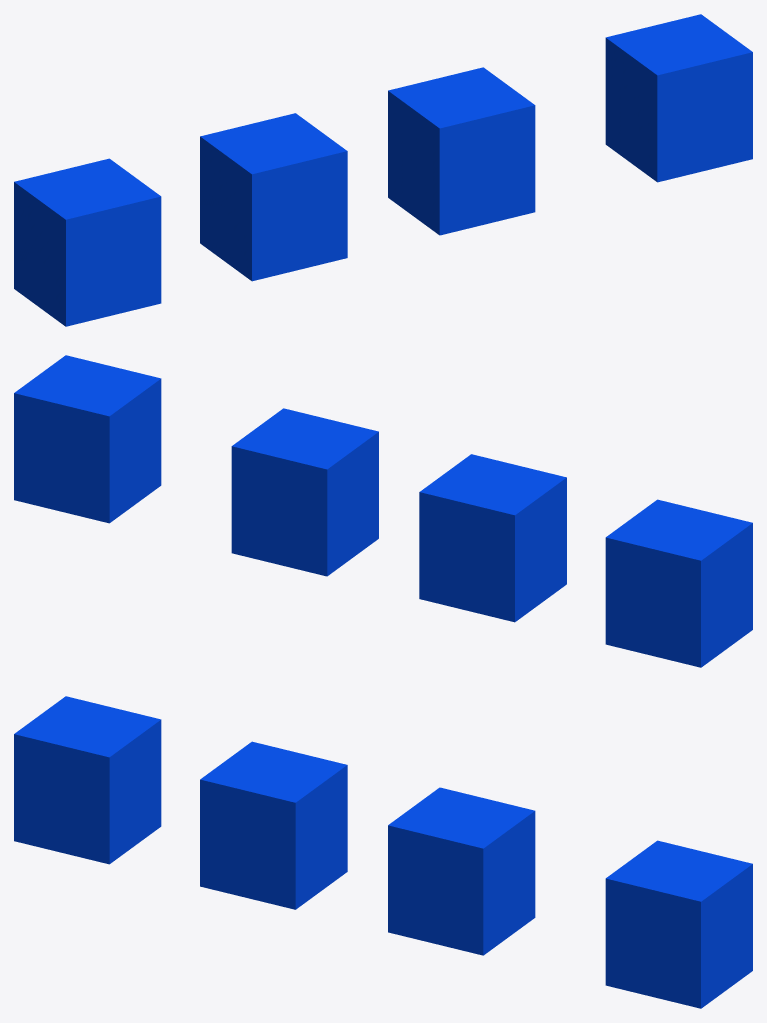
File: cubo1.fbx
3 views of the same model, one above another, from view 1: azimuth 30°, elevation 25°; view 2: azimuth 150°, elevation 25°; view 3: azimuth 330°, elevation 25° (orthographic).
Parts seen in each view (by area): view 1: Box001, Box002, Box003, Object003, Box004, Object002, Object001; view 2: Box001, Box002, Box003, Object003, Box004, Object002, Object001; view 3: Box001, Box004, Object002, Object001, Box002, Box003, Object003.
Boxes of the visible parts, x1,y1,x2,y2 form: Box001: [388, 67, 535, 235]; Box002: [605, 14, 752, 182]; Box003: [200, 120, 316, 281]; Object003: [14, 170, 113, 326]; Box004: [62, 158, 161, 314]; Object002: [265, 113, 347, 275]; Object001: [658, 52, 752, 182]; Box001: [231, 408, 378, 576]; Box002: [14, 355, 161, 523]; Box003: [450, 461, 566, 622]; Object003: [653, 511, 752, 667]; Box004: [605, 499, 704, 655]; Object002: [419, 454, 501, 616]; Object001: [14, 393, 108, 523]; Box001: [388, 787, 535, 955]; Box004: [61, 708, 161, 864]; Object002: [223, 757, 347, 909]; Object001: [606, 864, 752, 1008]; Box002: [605, 840, 752, 984]; Box003: [200, 741, 315, 891]; Object003: [14, 696, 113, 852].
Size of the model in its own units: 685 by 102 by 89.51.
